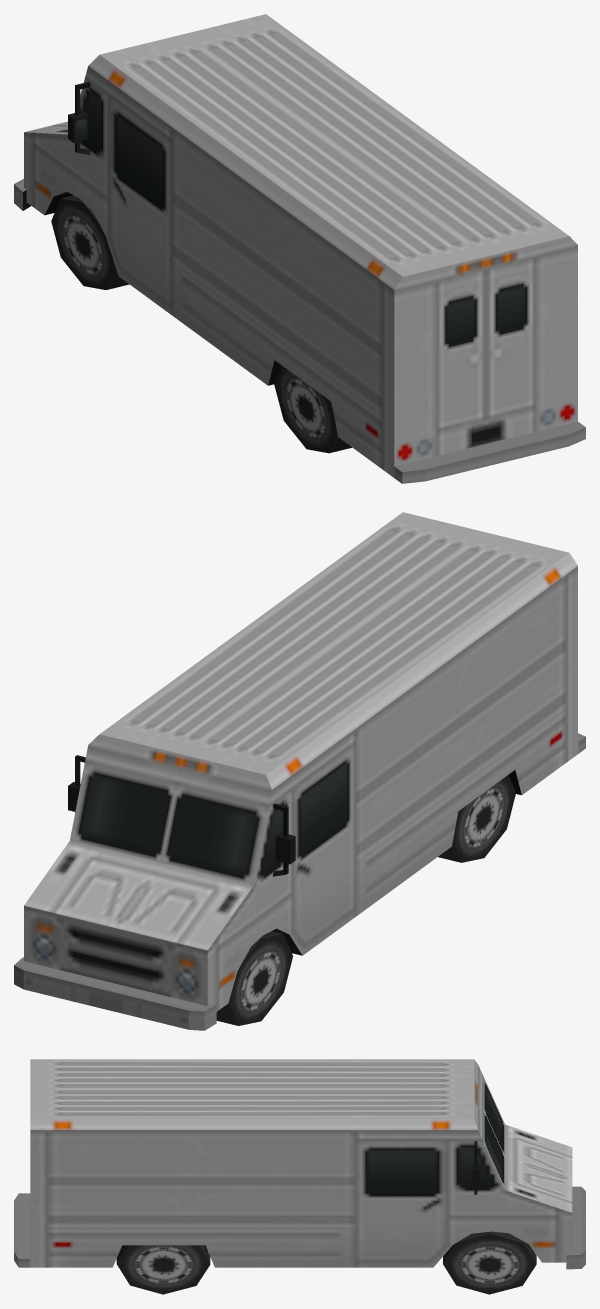
Rendered from Car8_o3.obj.
3 renders of one model, top to bottom at view 1: azimuth 30°, elevation 25°; view 2: azimuth 150°, elevation 25°; view 3: azimuth 270°, elevation 25°, orthographic. The views are drawn at different scales.
Parts seen in each view (by area): view 1: Car8; view 2: Car8; view 3: Car8.
Part boxes in pixels (x1=…): Car8: x1=14, y1=14, x2=585, y2=483; Car8: x1=14, y1=512, x2=585, y2=1030; Car8: x1=14, y1=1059, x2=585, y2=1294.
Bounding box in the file's own units: 1.63 × 1.66 × 4.96.
